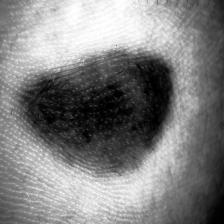Benign Marking or Mole: (22, 57, 171, 172)
